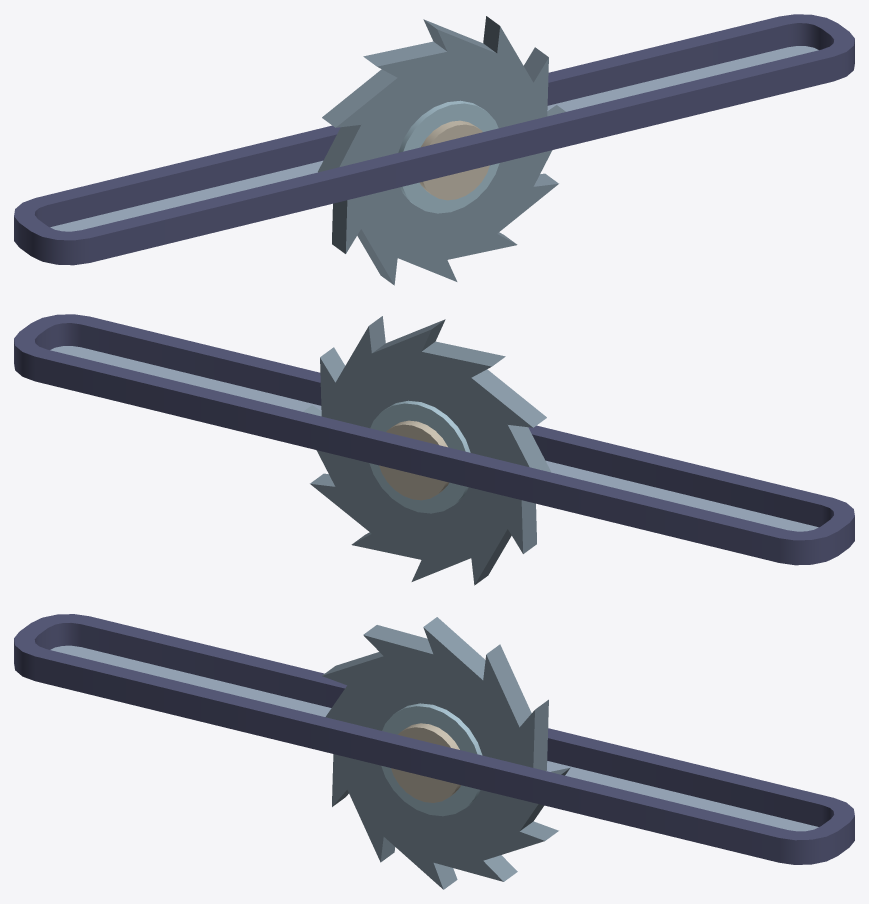
File: Obstacle_Gound_Socket_01.glb
The picture shows the model from 3 angles, top to bottom: view 1: azimuth 30°, elevation 25°; view 2: azimuth 150°, elevation 25°; view 3: azimuth 330°, elevation 25°; orthographic projection.
Visible parts, largest first — view 1: Obstacle_Gound_Socket_01, Gound_Socket_01_Blade; view 2: Obstacle_Gound_Socket_01, Gound_Socket_01_Blade; view 3: Obstacle_Gound_Socket_01, Gound_Socket_01_Blade.
Part boxes in pixels (bbox=[...]): Obstacle_Gound_Socket_01: bbox=[14, 14, 854, 265]; Gound_Socket_01_Blade: bbox=[318, 16, 565, 285]; Obstacle_Gound_Socket_01: bbox=[14, 314, 854, 565]; Gound_Socket_01_Blade: bbox=[303, 316, 550, 585]; Obstacle_Gound_Socket_01: bbox=[14, 614, 854, 864]; Gound_Socket_01_Blade: bbox=[322, 617, 570, 889].
Size of the model in its own units: 1.73 by 0.5195 by 0.2.
Materials: 1 (1 with a texture image).
